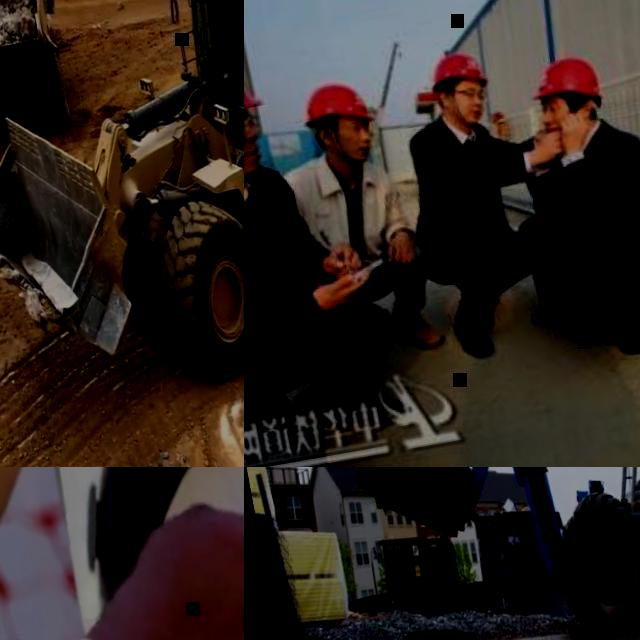helmet: (22, 467, 244, 640), (294, 75, 382, 137), (526, 52, 610, 110), (423, 47, 494, 98), (244, 16, 269, 128)
machinery: (0, 0, 244, 416), (344, 467, 640, 640), (0, 0, 81, 151)
no_mask: (244, 128, 268, 182), (330, 132, 372, 159), (452, 98, 486, 126), (544, 110, 578, 138)
no_vest: (280, 152, 410, 266), (244, 165, 322, 351), (539, 123, 640, 256), (412, 122, 518, 234)
person: (244, 0, 411, 453), (384, 36, 598, 361), (262, 68, 443, 360), (503, 45, 640, 365), (0, 467, 244, 640)
